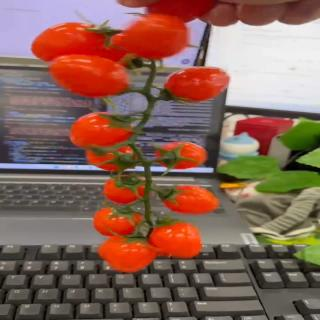tomato: (49, 54, 132, 98), (118, 15, 192, 61), (32, 21, 112, 63), (161, 66, 234, 103), (69, 111, 135, 150), (149, 220, 205, 260), (100, 238, 158, 274), (161, 184, 222, 216), (89, 206, 148, 237), (84, 143, 138, 172), (158, 141, 207, 169), (104, 175, 146, 205)
